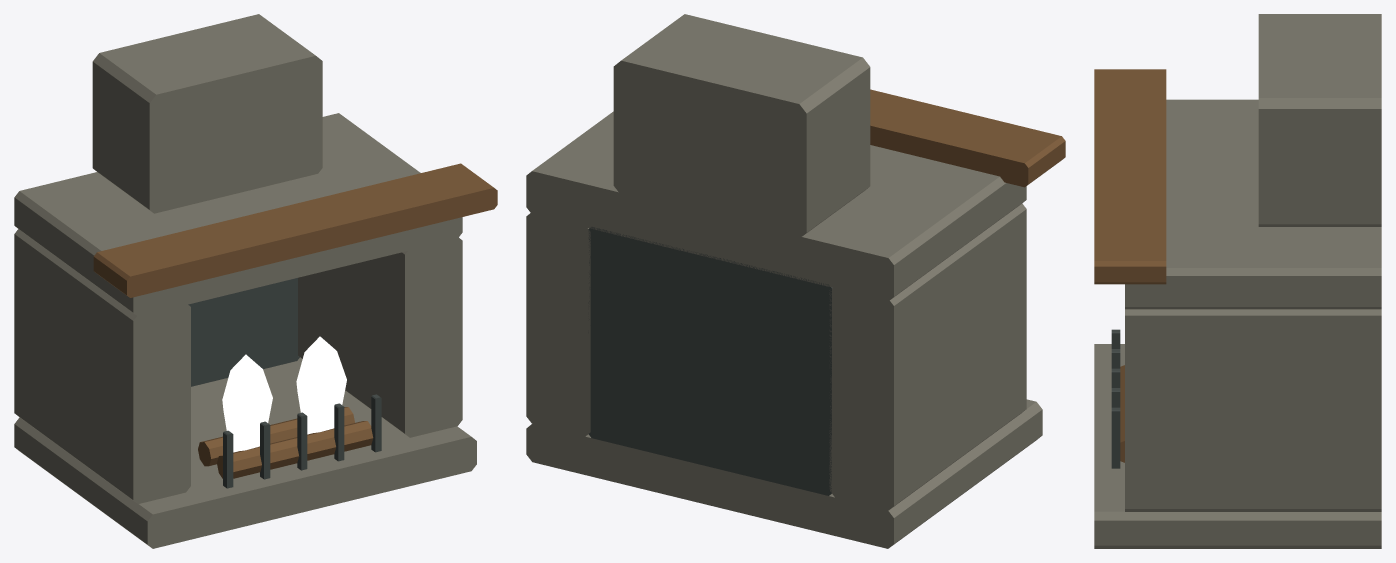
Rendered from Fireplace.gltf.
3 views of the same model, side by side, from view 1: azimuth 30°, elevation 25°; view 2: azimuth 150°, elevation 25°; view 3: azimuth 270°, elevation 25° (orthographic). The views are drawn at different scales.
Parts seen in each view (by area): view 1: Fireplace; view 2: Fireplace; view 3: Fireplace.
Part boxes in pixels (<box>): Fireplace: <box>14,14,497,548</box>; Fireplace: <box>526,14,1065,548</box>; Fireplace: <box>1094,14,1381,548</box>.
Size of the model in its own units: 0.9 by 0.88 by 0.56.
